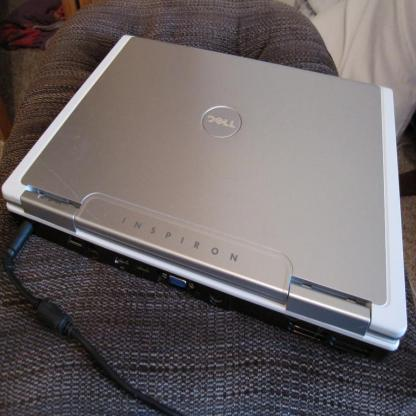board: (0, 33, 407, 352)
